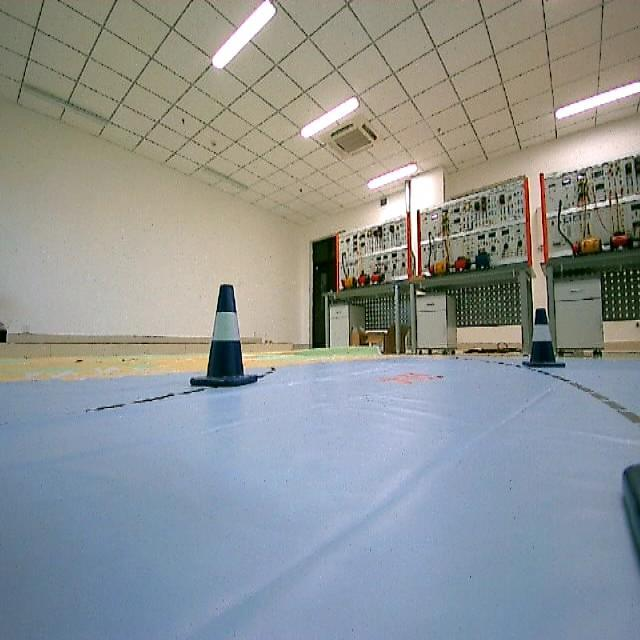obstacle: (187, 282, 265, 392), (522, 306, 570, 377)
